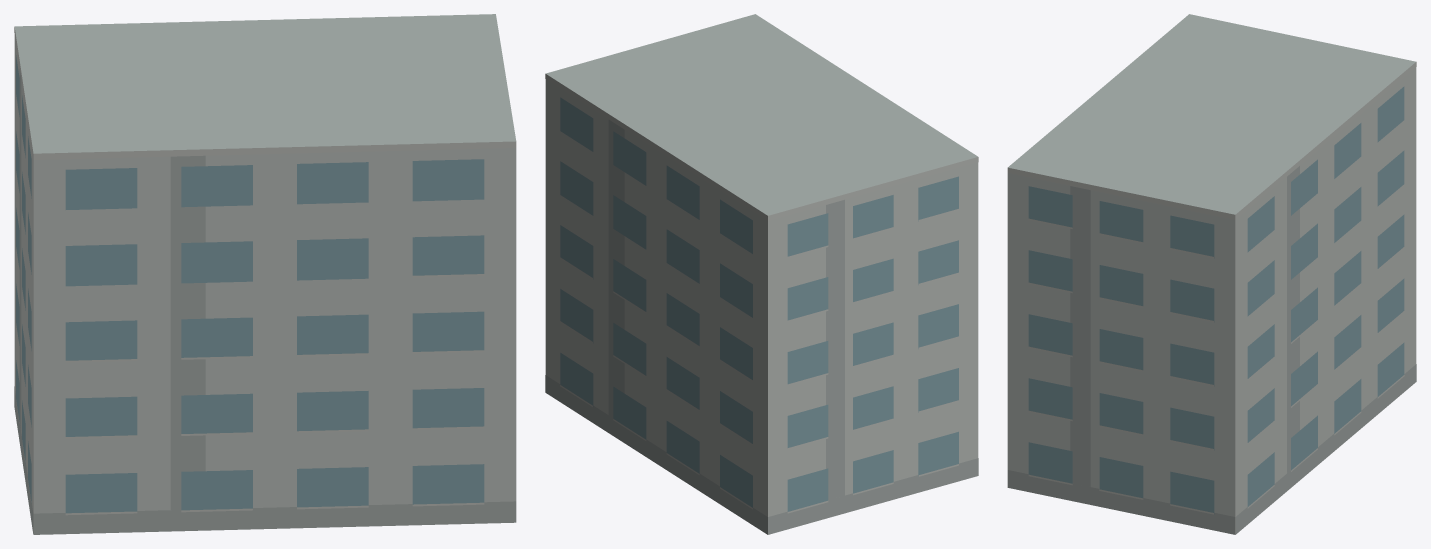
Rendered from survey-upis-32890954.glb.
3 renders of one model, left to right at view 1: azimuth 30°, elevation 25°; view 2: azimuth 150°, elevation 25°; view 3: azimuth 270°, elevation 25°, orthographic. The views are drawn at different scales.
Parts seen in each view (by area): view 1: survey-upis-32890954.tmp; view 2: survey-upis-32890954.tmp; view 3: survey-upis-32890954.tmp.
Part boxes in pixels (x1,y1,x2,y2): survey-upis-32890954.tmp: [14, 14, 516, 534]; survey-upis-32890954.tmp: [545, 14, 978, 534]; survey-upis-32890954.tmp: [1007, 14, 1416, 534].
Size of the model in its own units: 19.38 by 14.4 by 16.67.
